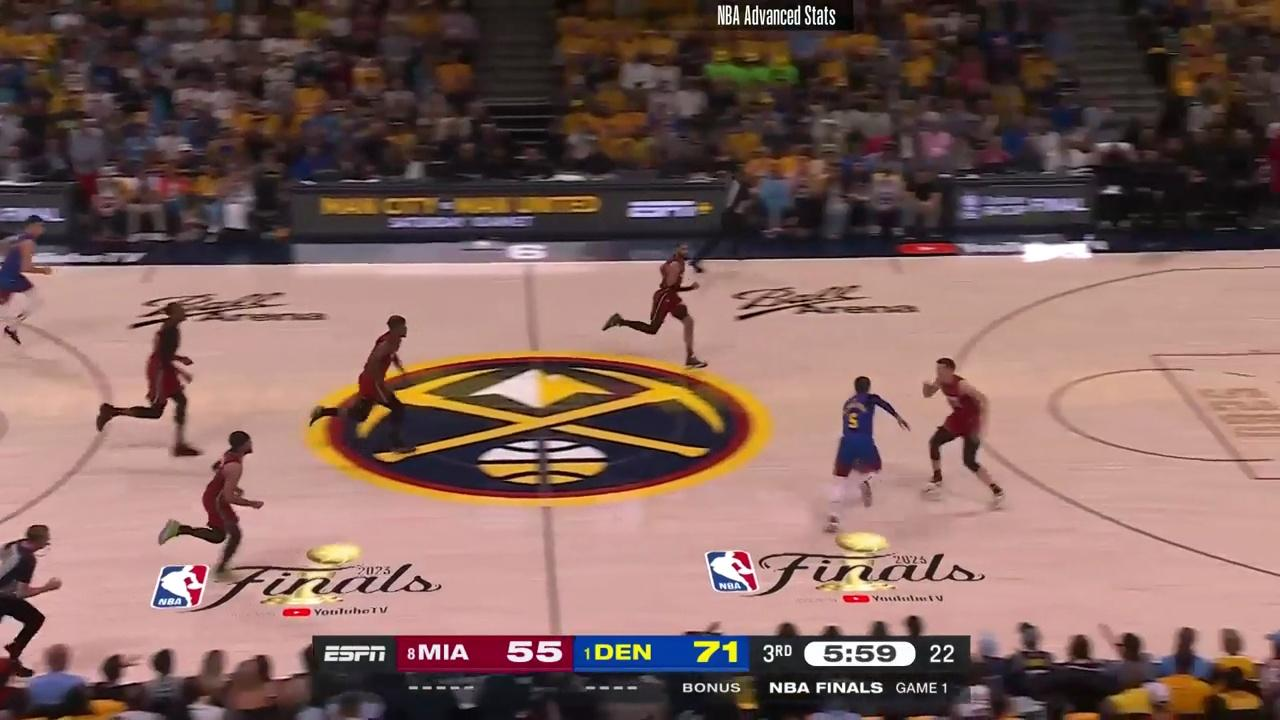Person: (163, 427, 265, 594), (598, 237, 716, 372), (102, 305, 198, 459), (324, 304, 421, 446), (921, 352, 1005, 507), (831, 374, 907, 522), (0, 212, 55, 349)
Referee: (690, 163, 766, 278), (0, 522, 56, 676)
